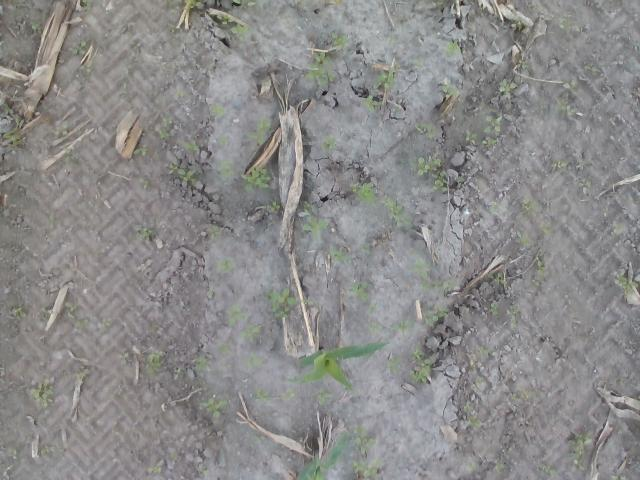Maize: (282, 342, 389, 392), (293, 430, 348, 480)
Weeds: (300, 200, 328, 242), (567, 432, 593, 474), (381, 193, 412, 227), (264, 287, 298, 318), (306, 50, 336, 84), (246, 116, 272, 151), (165, 157, 198, 184), (349, 180, 379, 207), (352, 424, 378, 455), (240, 166, 272, 191), (409, 356, 436, 384), (614, 268, 640, 295), (30, 378, 54, 407), (352, 458, 382, 480), (411, 155, 442, 176), (410, 250, 430, 280), (198, 398, 228, 418), (152, 114, 175, 140), (422, 306, 448, 328), (224, 303, 250, 325), (372, 68, 397, 90), (215, 158, 236, 184), (144, 350, 164, 374), (555, 96, 576, 118), (349, 281, 372, 301), (498, 78, 518, 100), (62, 144, 80, 168), (412, 122, 437, 139), (243, 351, 263, 372), (240, 322, 260, 343), (131, 224, 157, 240), (359, 95, 383, 112), (532, 252, 544, 286), (515, 198, 535, 218), (312, 386, 332, 406), (432, 169, 449, 192), (506, 306, 521, 329), (2, 127, 20, 146), (434, 278, 458, 292), (393, 318, 414, 334), (484, 114, 502, 132), (217, 257, 236, 274), (229, 24, 249, 40), (330, 246, 350, 262), (364, 321, 385, 335), (486, 270, 507, 284), (193, 355, 210, 372), (516, 229, 532, 247), (208, 102, 226, 118), (332, 32, 348, 50), (121, 53, 134, 74), (441, 80, 458, 96), (252, 388, 270, 403), (38, 306, 54, 322), (386, 357, 402, 373), (70, 40, 87, 55), (484, 300, 501, 315), (64, 301, 78, 319), (411, 342, 425, 360), (182, 139, 201, 152), (28, 20, 43, 36), (280, 388, 296, 403), (444, 40, 461, 54), (562, 80, 578, 94), (228, 0, 256, 8), (464, 130, 478, 146), (321, 136, 337, 150), (578, 178, 592, 194), (551, 158, 567, 172), (10, 305, 27, 318), (217, 13, 234, 26), (265, 199, 282, 212), (132, 144, 148, 157), (216, 342, 232, 355), (79, 60, 93, 74), (612, 220, 626, 234), (208, 225, 221, 240), (481, 136, 498, 147), (54, 122, 68, 135), (129, 40, 142, 54), (138, 177, 152, 190), (467, 415, 481, 428), (558, 17, 572, 30), (543, 464, 558, 476), (117, 352, 130, 365), (412, 56, 424, 70), (216, 135, 230, 147), (98, 317, 113, 328), (250, 434, 268, 443), (184, 0, 202, 9), (520, 390, 538, 399), (40, 444, 56, 454), (118, 82, 128, 98), (478, 346, 494, 356), (172, 88, 185, 100), (540, 221, 552, 234), (489, 202, 502, 214), (77, 368, 90, 380), (147, 464, 162, 474), (494, 458, 504, 473), (366, 302, 378, 314), (76, 320, 90, 330), (47, 214, 56, 229), (466, 461, 478, 472), (198, 463, 208, 476), (8, 447, 18, 460), (121, 22, 134, 32), (511, 21, 524, 31), (584, 64, 600, 72), (360, 244, 371, 255), (463, 400, 473, 412), (207, 286, 215, 300), (552, 50, 566, 58), (174, 366, 182, 380), (430, 0, 444, 8), (517, 59, 529, 68), (419, 282, 432, 290), (166, 22, 176, 32), (2, 102, 10, 114), (167, 0, 183, 6), (476, 376, 484, 388), (301, 298, 314, 305), (80, 0, 92, 7), (612, 474, 626, 480), (576, 160, 586, 168), (387, 36, 396, 44), (14, 115, 21, 125), (528, 1, 538, 8), (170, 452, 178, 460), (509, 392, 517, 400), (633, 394, 640, 402), (455, 176, 462, 184), (394, 60, 400, 68), (476, 186, 482, 190)
